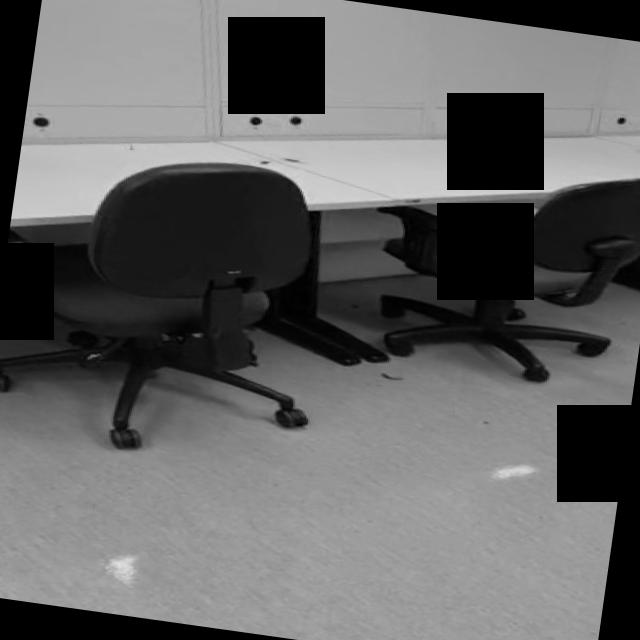cadeira-azul: (0, 132, 342, 473)
